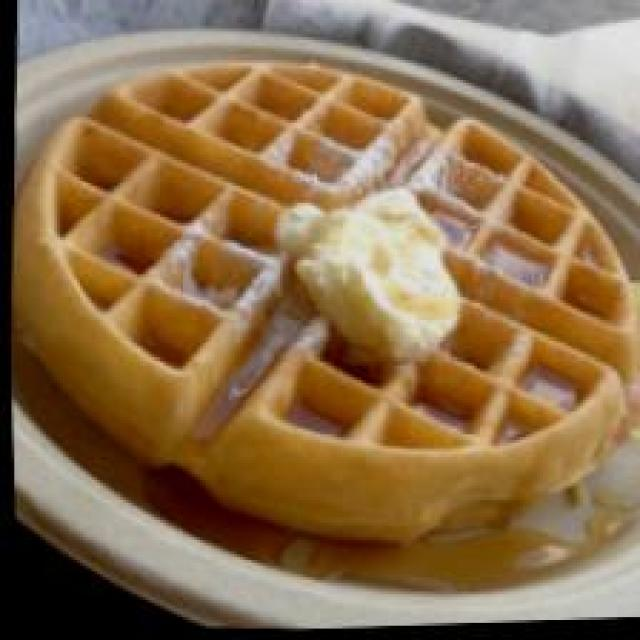Waffles: (5, 27, 640, 575)
